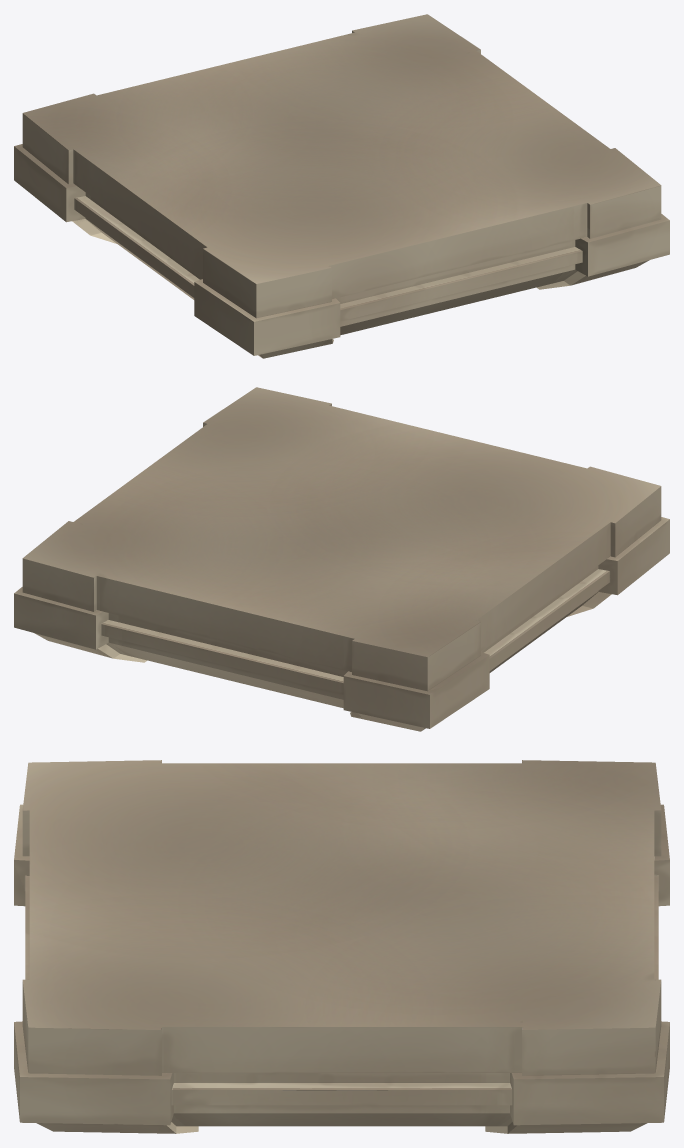
Rendered from floating_platform_5.fbx.
The picture shows the model from 3 angles, top to bottom: view 1: azimuth 30°, elevation 25°; view 2: azimuth 150°, elevation 25°; view 3: azimuth 270°, elevation 25°; orthographic projection. The views are drawn at different scales.
Visible parts, largest first — view 1: floating_platform; view 2: floating_platform; view 3: floating_platform.
Boxes of the visible parts, box(x1,y1,x2,y2) form: floating_platform: box(14, 14, 669, 358); floating_platform: box(14, 387, 669, 731); floating_platform: box(14, 760, 669, 1133).
Bounding box in the file's own units: 492 × 107 × 492.
